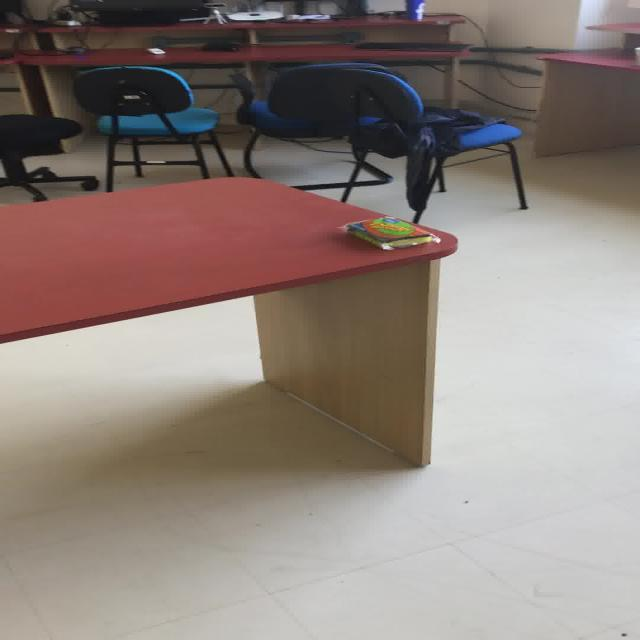sponge: (342, 215, 440, 250)
